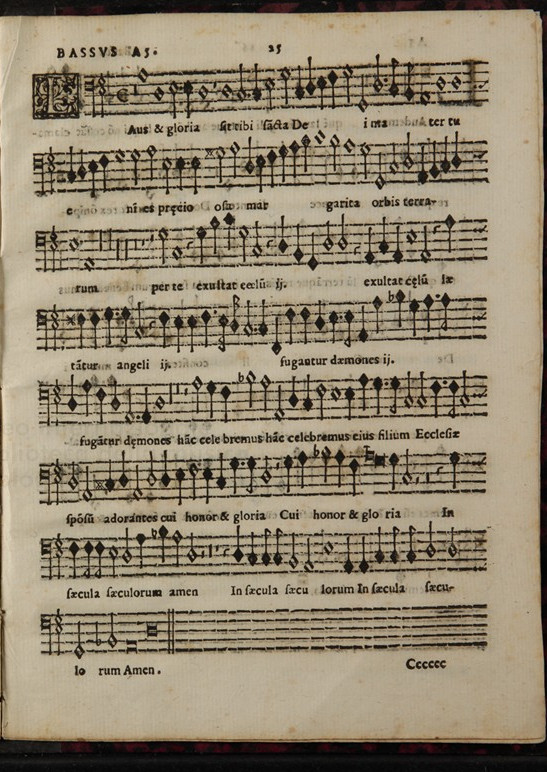barline: (163, 600, 178, 660)
breve_10: (120, 635, 141, 657)
breve_7: (141, 618, 162, 641)
f clef_5: (34, 601, 64, 658)
flat_9: (89, 616, 103, 650)
minim_11: (72, 619, 87, 660)
minim_9: (105, 609, 119, 652)
